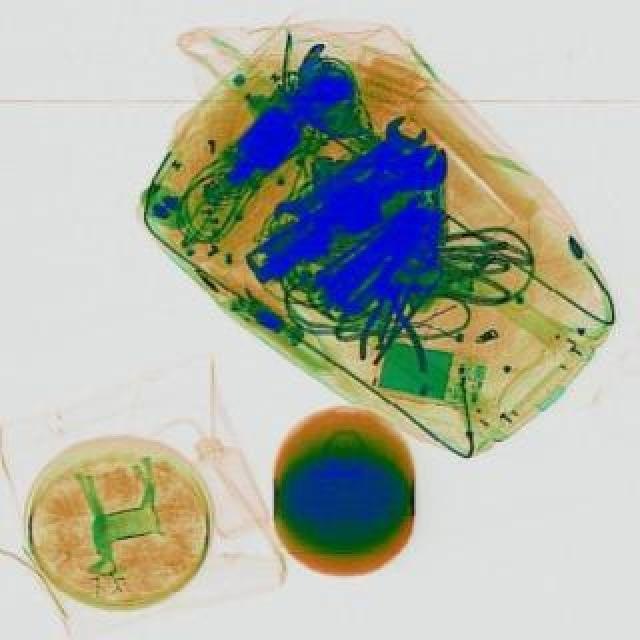scissors: (264, 106, 430, 238)
wrench: (358, 276, 428, 372)
